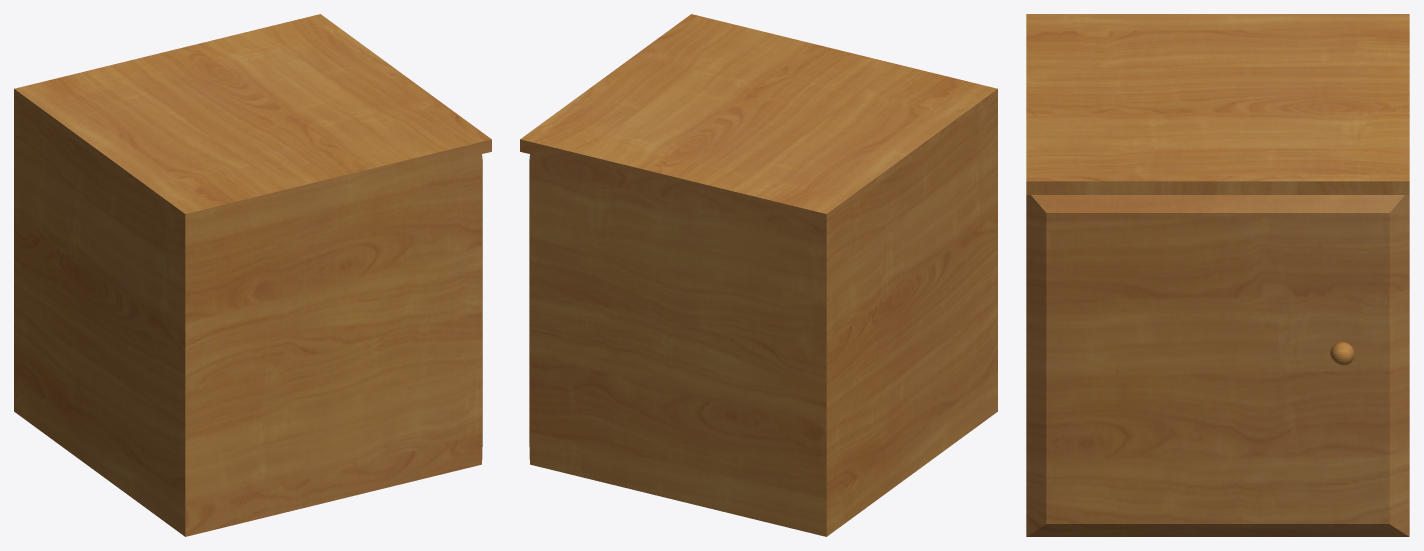
The model's file is singleCabnit.obj.
3 renders of one model, left to right at view 1: azimuth 30°, elevation 25°; view 2: azimuth 150°, elevation 25°; view 3: azimuth 270°, elevation 25°, orthographic. The views are drawn at different scales.
Parts seen in each view (by area): view 1: Cube; view 2: Cube; view 3: Cube.
Part boxes in pixels (<box>): Cube: <box>14,14,491,536</box>; Cube: <box>520,14,997,536</box>; Cube: <box>1026,14,1409,536</box>.
Bounding box in the file's own units: 3.51 × 3.4 × 3.27.
